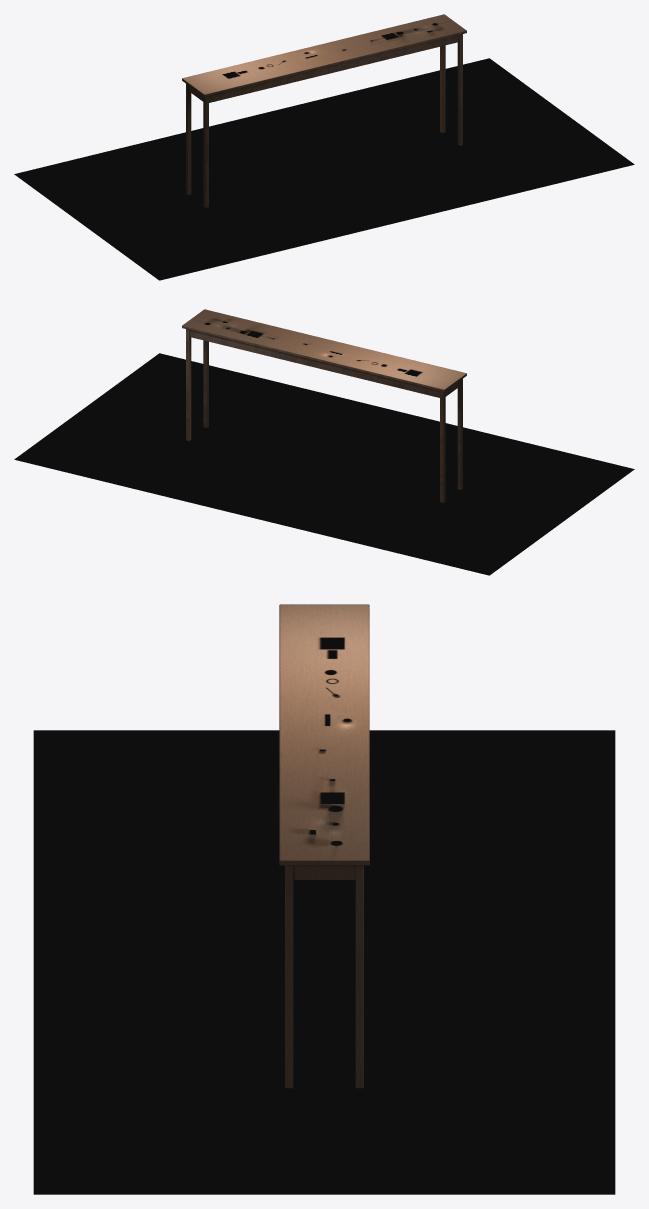
Rendered from 814_silver.glb.
3 renders of one model, top to bottom at view 1: azimuth 30°, elevation 25°; view 2: azimuth 150°, elevation 25°; view 3: azimuth 270°, elevation 25°, orthographic. The views are drawn at different scales.
Visible parts, largest first — view 1: Shadow, Table; view 2: Shadow, Table; view 3: Shadow, Table.
Part boxes in pixels (bbox=[...]): Shadow: bbox=[14, 58, 634, 280]; Table: bbox=[182, 14, 466, 207]; Shadow: bbox=[14, 353, 634, 575]; Table: bbox=[182, 309, 466, 502]; Shadow: bbox=[33, 730, 615, 1194]; Table: bbox=[279, 604, 369, 1088].
Size of the model in its own units: 13.4 by 3.1 by 7.1.
2 materials, 2 textured.
